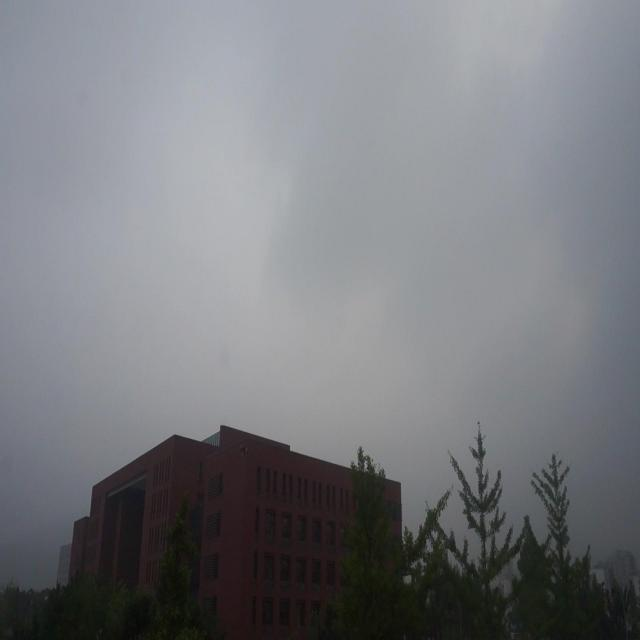UAV: (240, 444, 248, 456)
